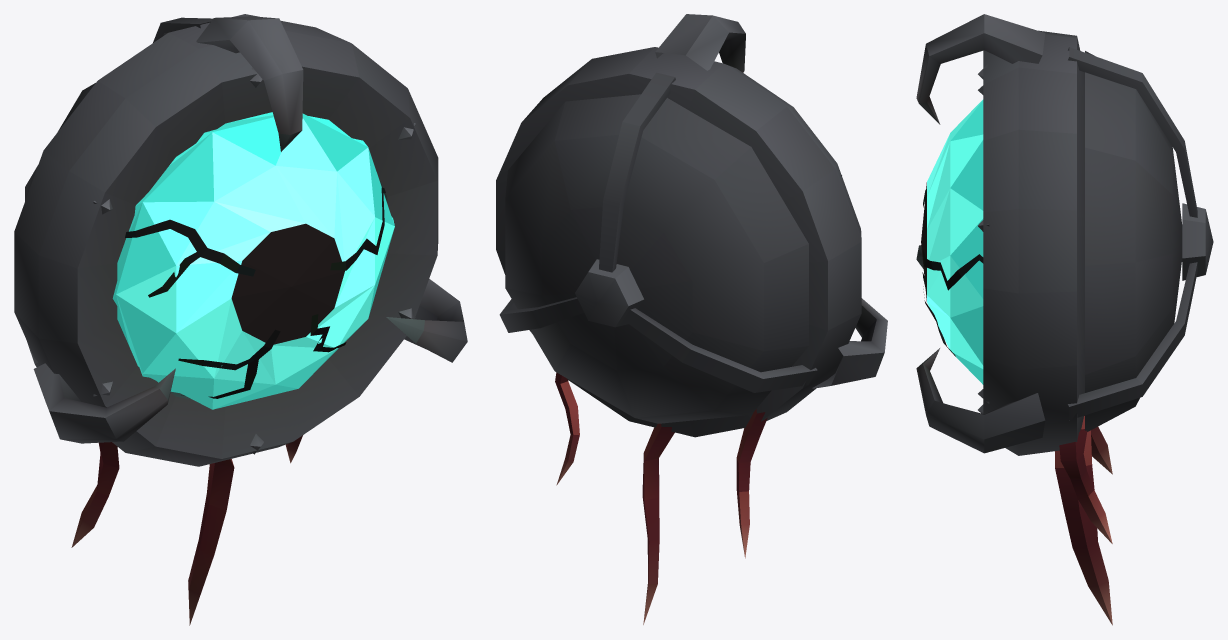
File: guttered_eye.glb
The picture shows the model from 3 angles, left to right: view 1: azimuth 30°, elevation 25°; view 2: azimuth 150°, elevation 25°; view 3: azimuth 270°, elevation 25°; orthographic projection. The views are drawn at different scales.
Parts seen in each view (by area): view 1: Eye_Cage, Eye_Lens; view 2: Eye_Cage; view 3: Eye_Cage, Eye_Lens.
Boxes of the visible parts, x1,y1,x2,y2 form: Eye_Cage: [14, 14, 467, 625]; Eye_Lens: [112, 112, 394, 409]; Eye_Cage: [496, 14, 887, 624]; Eye_Cage: [916, 14, 1213, 625]; Eye_Lens: [921, 99, 983, 384].
Size of the model in its own units: 0.5412 by 0.8243 by 0.3656.
